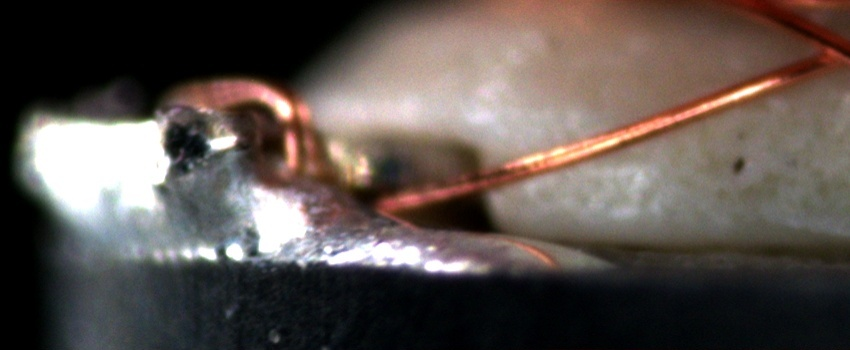CL: (793, 25, 850, 76)
DL: (518, 142, 656, 189)
TE: (170, 71, 323, 183)
